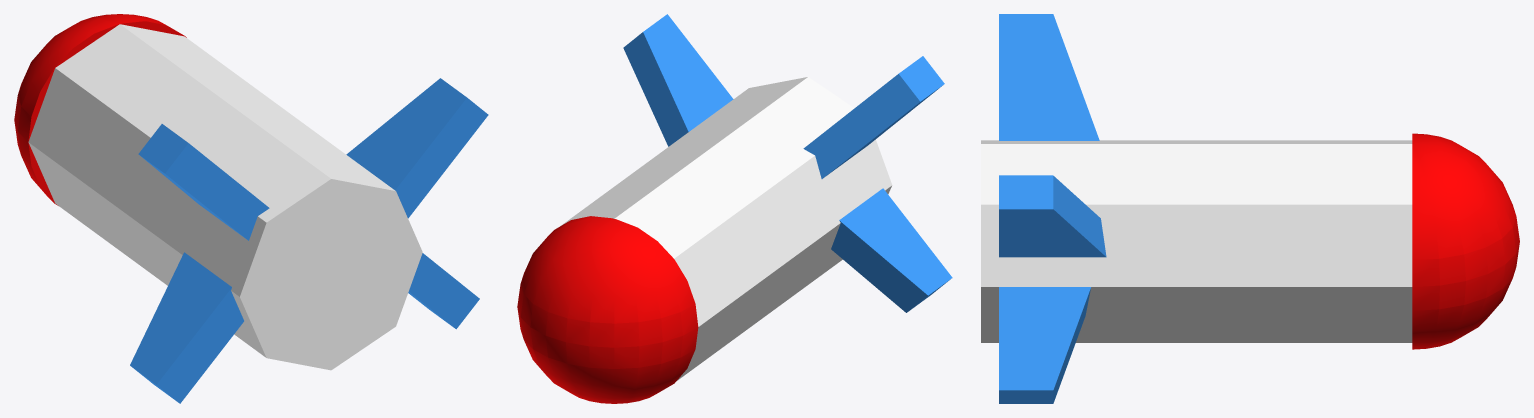
File: missile.fbx
3 renders of one model, left to right at view 1: azimuth 30°, elevation 25°; view 2: azimuth 150°, elevation 25°; view 3: azimuth 270°, elevation 25°, orthographic. The views are drawn at different scales.
Parts seen in each view (by area): view 1: cylinder_vertex_0, plane_elevator_8, plane_elevator_4, plane_elevator_6, sphere_dome_2, plane_elevator_7; view 2: cylinder_vertex_0, sphere_dome_2, plane_elevator_8, plane_elevator_4, plane_elevator_6; view 3: cylinder_vertex_0, sphere_dome_2, plane_elevator_6, plane_elevator_7, plane_elevator_4.
Boxes of the visible parts, box(x1,y1,x2,y2) form: cylinder_vertex_0: box(28, 24, 422, 370); plane_elevator_8: box(130, 252, 243, 403); plane_elevator_4: box(346, 78, 488, 218); plane_elevator_6: box(138, 124, 269, 240); sphere_dome_2: box(14, 14, 186, 205); plane_elevator_7: box(408, 253, 479, 329); cylinder_vertex_0: box(561, 77, 892, 380); sphere_dome_2: box(517, 216, 698, 403); plane_elevator_8: box(831, 188, 952, 312); plane_elevator_4: box(623, 14, 733, 146); plane_elevator_6: box(803, 56, 944, 178); cylinder_vertex_0: box(981, 140, 1412, 342); sphere_dome_2: box(1412, 133, 1519, 349); plane_elevator_6: box(999, 14, 1099, 140); plane_elevator_7: box(999, 287, 1090, 403); plane_elevator_4: box(999, 175, 1106, 257).
Bounding box in the file's own units: 10.89 × 8.11 × 15.
